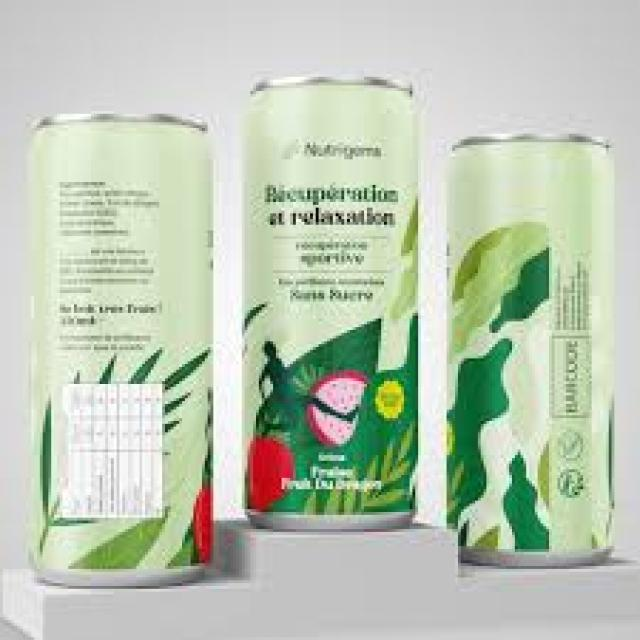Cans: (23, 106, 216, 594), (236, 68, 432, 538), (441, 122, 629, 564)
